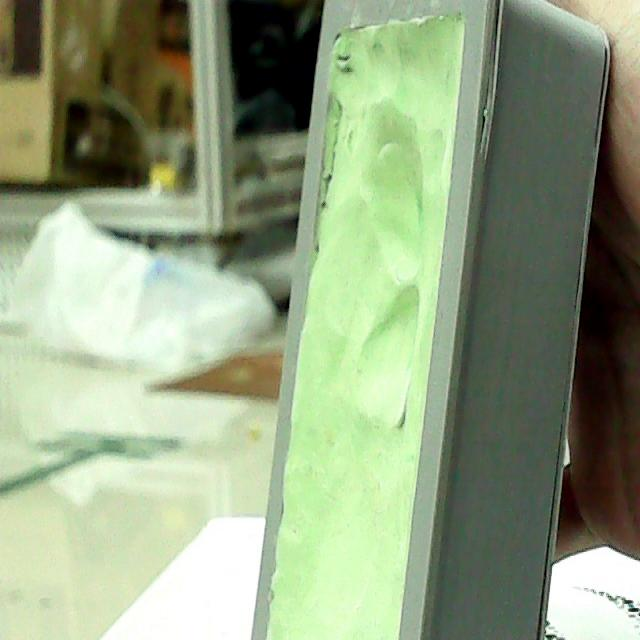block: (239, 0, 610, 639)
